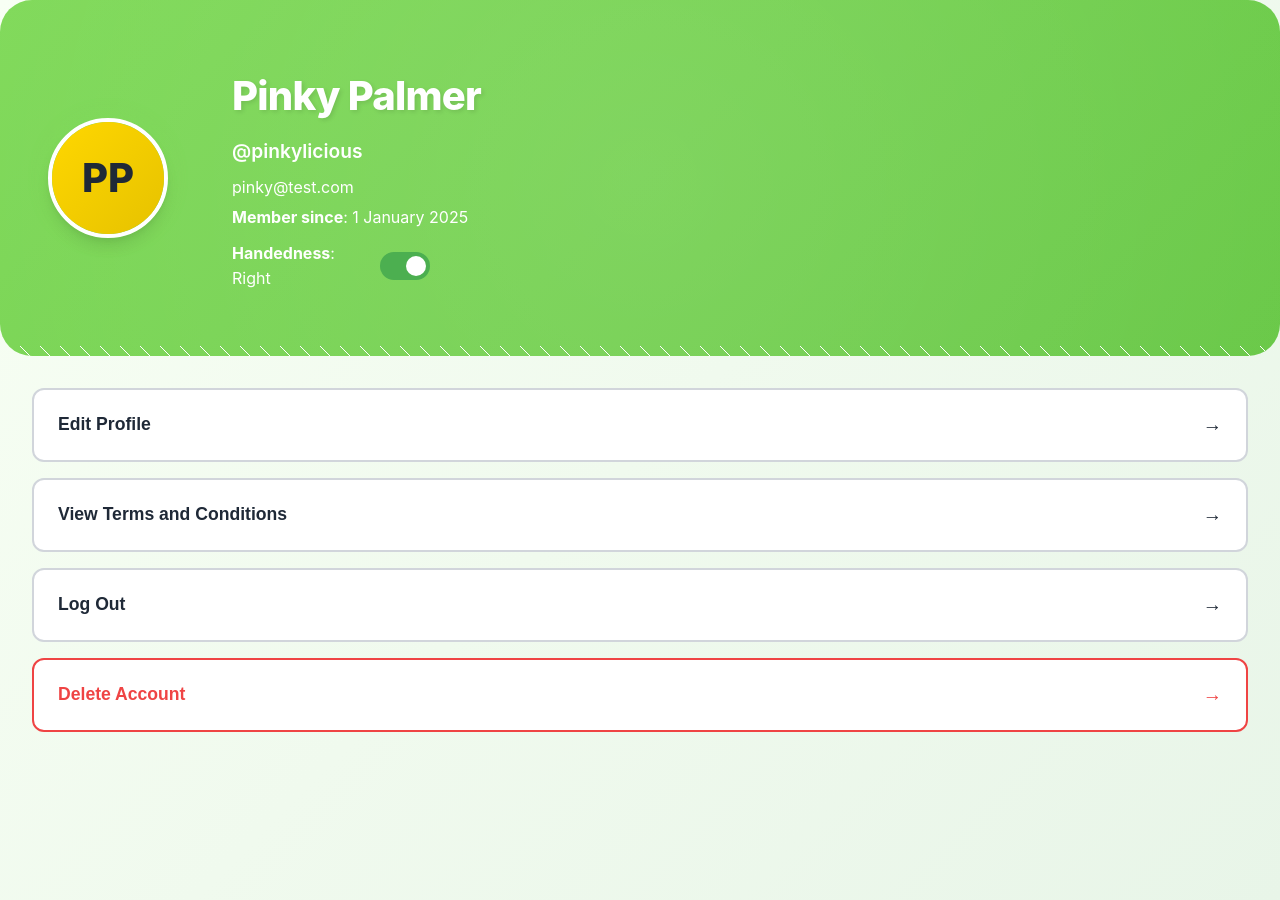
Test case: UserProfile › populates edit form with current user data
The image size is (1280, 900).
Click the button "Edit Profile →" at (104, 424), box [32, 388, 1248, 462]
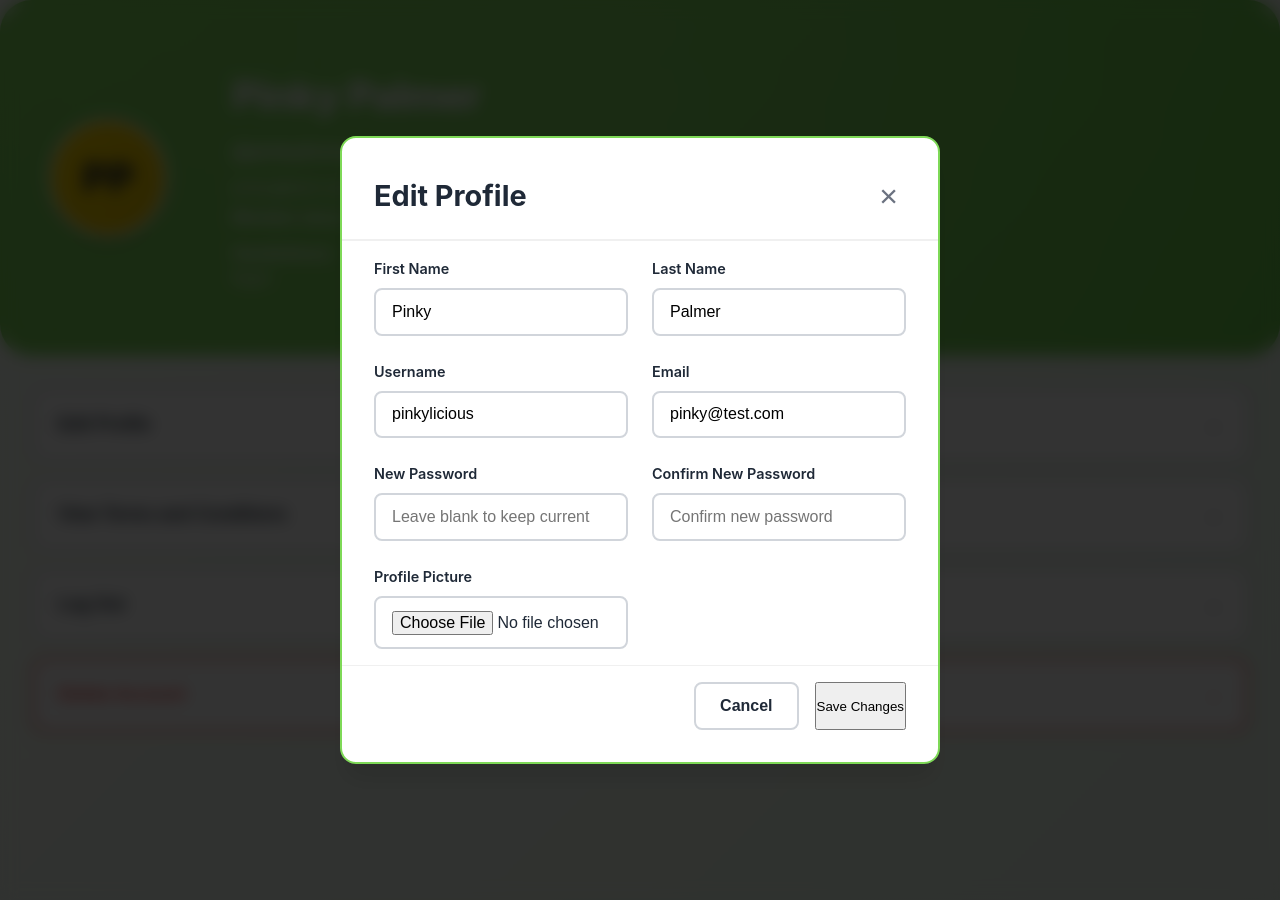
Now the field labelled "First Name" holds "Pinky", box [374, 288, 628, 336]
Now the field labelled "Last Name" holds "Palmer", box [652, 288, 906, 336]
Now the field labelled "Username" holds "pinkylicious", box [374, 391, 628, 438]
